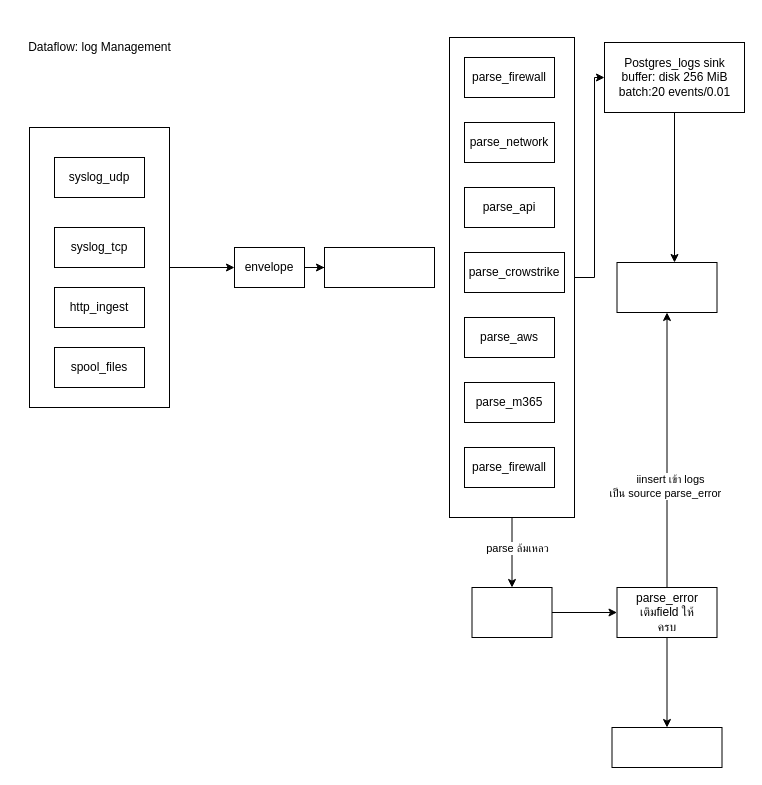
Image size: 762x785. Some labels were removed from this diagram. The shapes that lost their labels are listed below. From the top down, each one's centre as x and y in pixels, then its label:
At (x=379, y=267): "route_source แยกเป็น 7 source".
At (x=666, y=287): "log Table ตาม ts กับ tenant".
At (x=511, y=612): ".dropped (field ไม่ครบ)".
At (x=666, y=747): "dead_letter".
